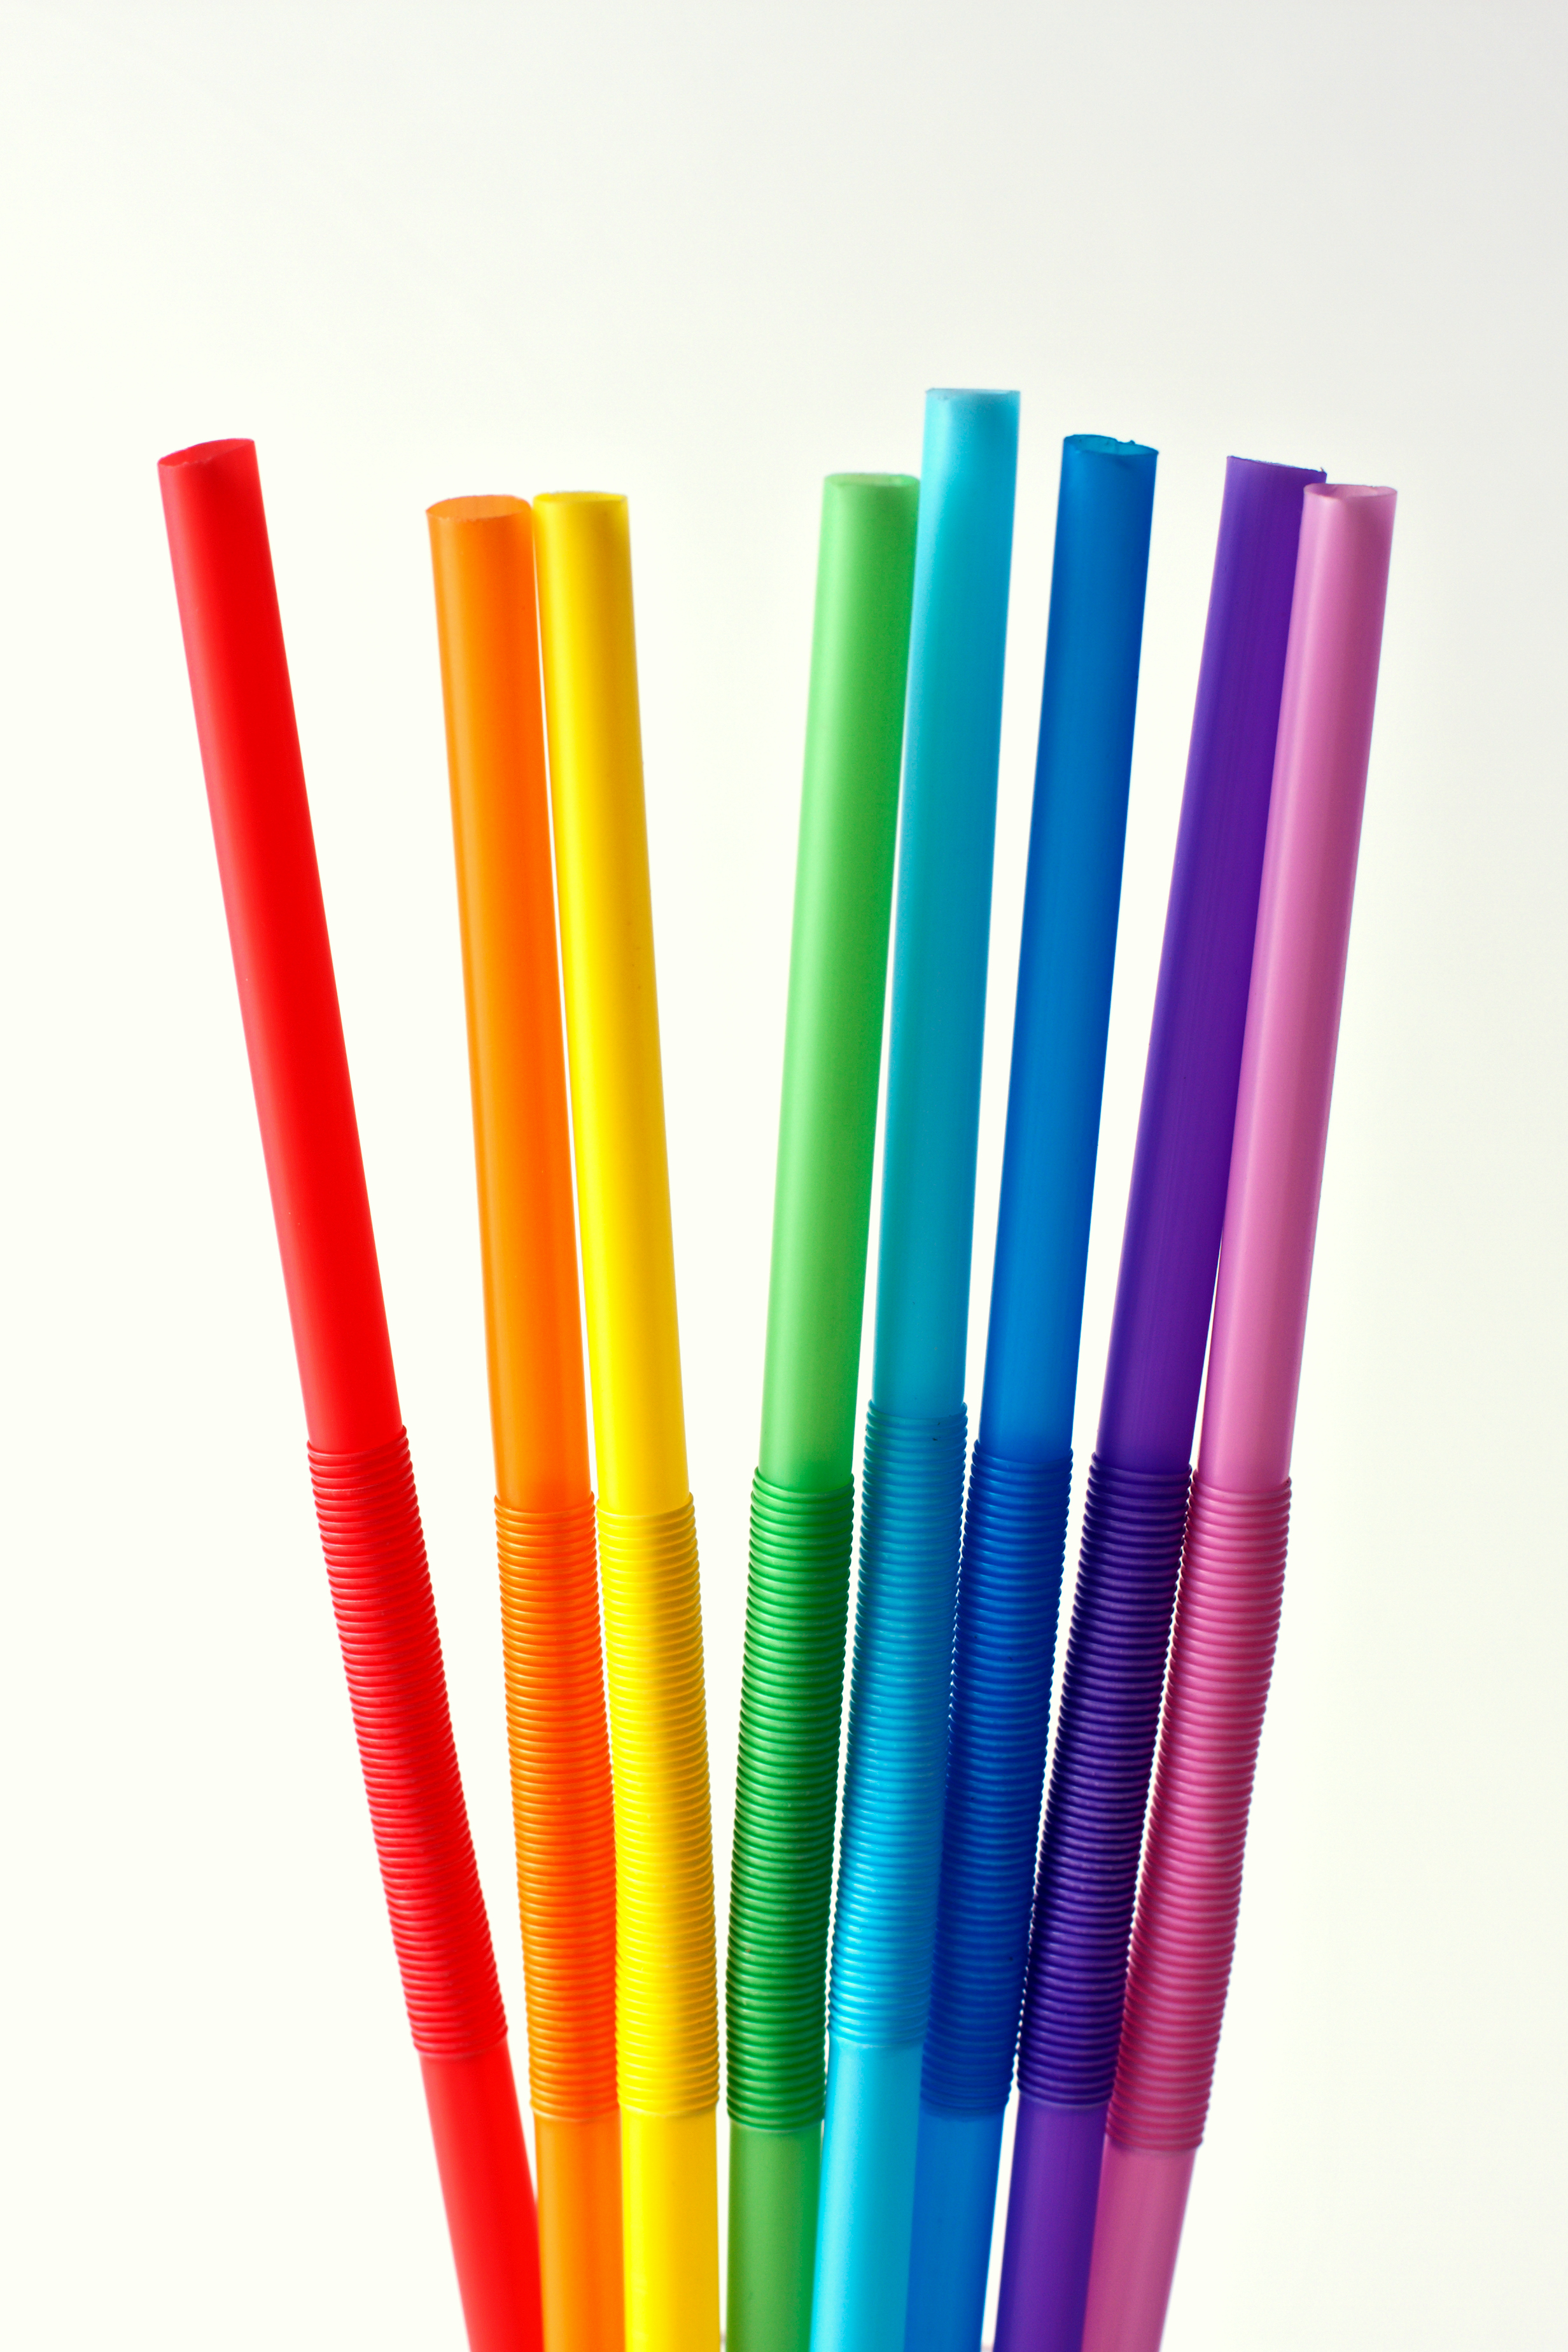Drinking Straw: (131, 416, 544, 2352), (415, 485, 640, 2352)
